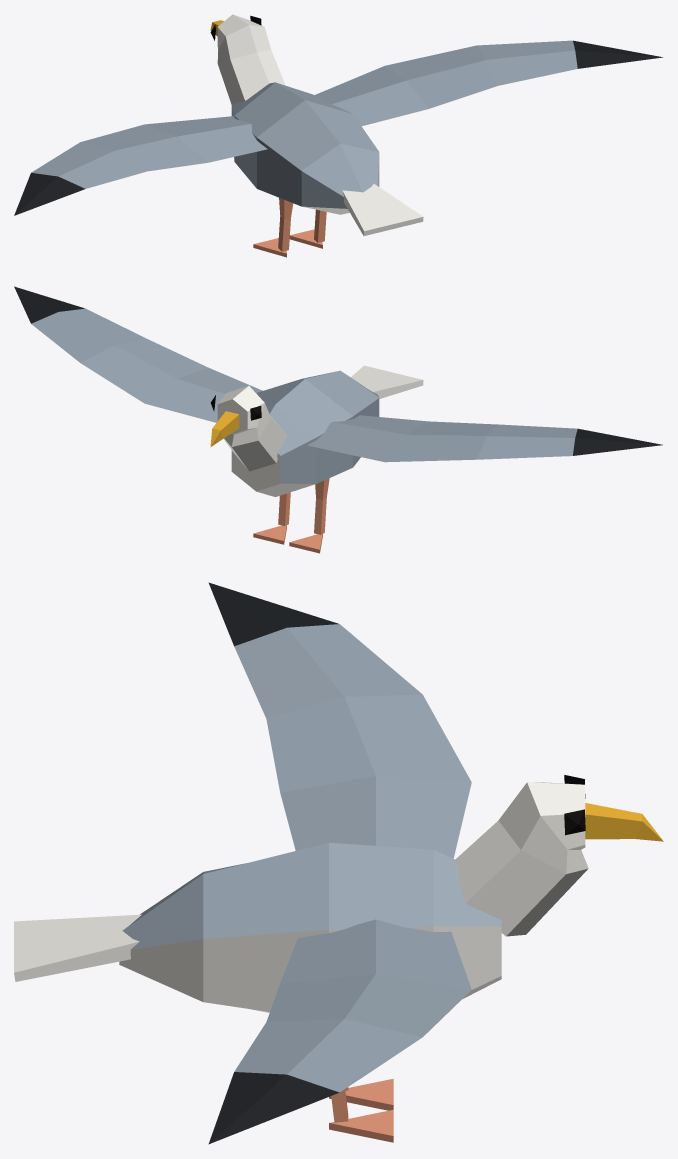
File: seagull.glb
3 renders of one model, top to bottom at view 1: azimuth 30°, elevation 25°; view 2: azimuth 150°, elevation 25°; view 3: azimuth 270°, elevation 25°, orthographic. The views are drawn at different scales.
Parts seen in each view (by area): view 1: Body, Wing_R, Wing_L, Head, Tail, Leg_L, Leg_R; view 2: Wing_R, Wing_L, Body, Head, Tail, Leg_L, Leg_R; view 3: Wing_L, Body, Wing_R, Head, Tail, Leg_R, Leg_L.
Boxes of the visible parts, x1,y1,x2,y2 form: Body: (231, 82, 379, 214); Wing_R: (315, 40, 662, 126); Wing_L: (14, 116, 267, 215); Head: (210, 14, 285, 105); Tail: (342, 184, 423, 235); Leg_L: (253, 197, 293, 257); Leg_R: (289, 209, 326, 248); Wing_R: (14, 286, 262, 422); Wing_L: (307, 415, 662, 462); Body: (231, 370, 379, 496); Head: (210, 386, 287, 471); Tail: (351, 365, 423, 398); Leg_L: (289, 478, 329, 553); Leg_R: (253, 492, 290, 544); Wing_L: (208, 582, 471, 858); Body: (119, 842, 501, 1012); Wing_R: (208, 919, 471, 1144); Head: (455, 775, 663, 936); Tail: (14, 914, 141, 981); Leg_R: (329, 1089, 393, 1142); Leg_L: (329, 1078, 393, 1110).
Bounding box in the file's own units: 0.9144 × 0.2518 × 0.4469.
